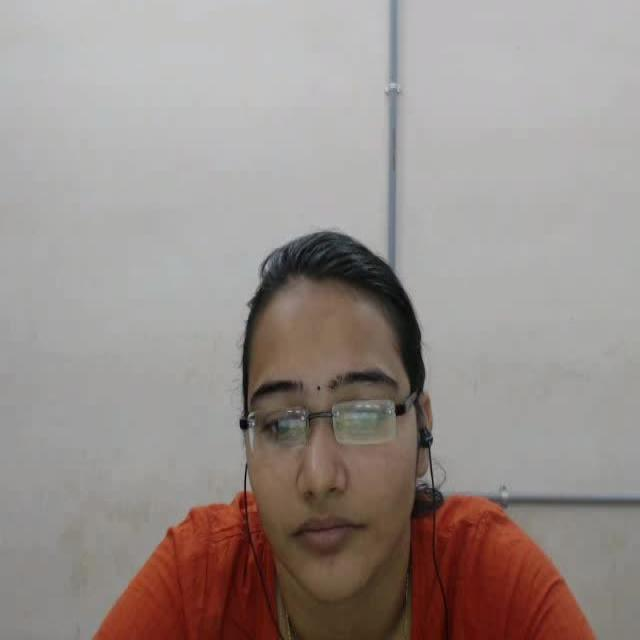Engaged: (207, 216, 464, 620)
